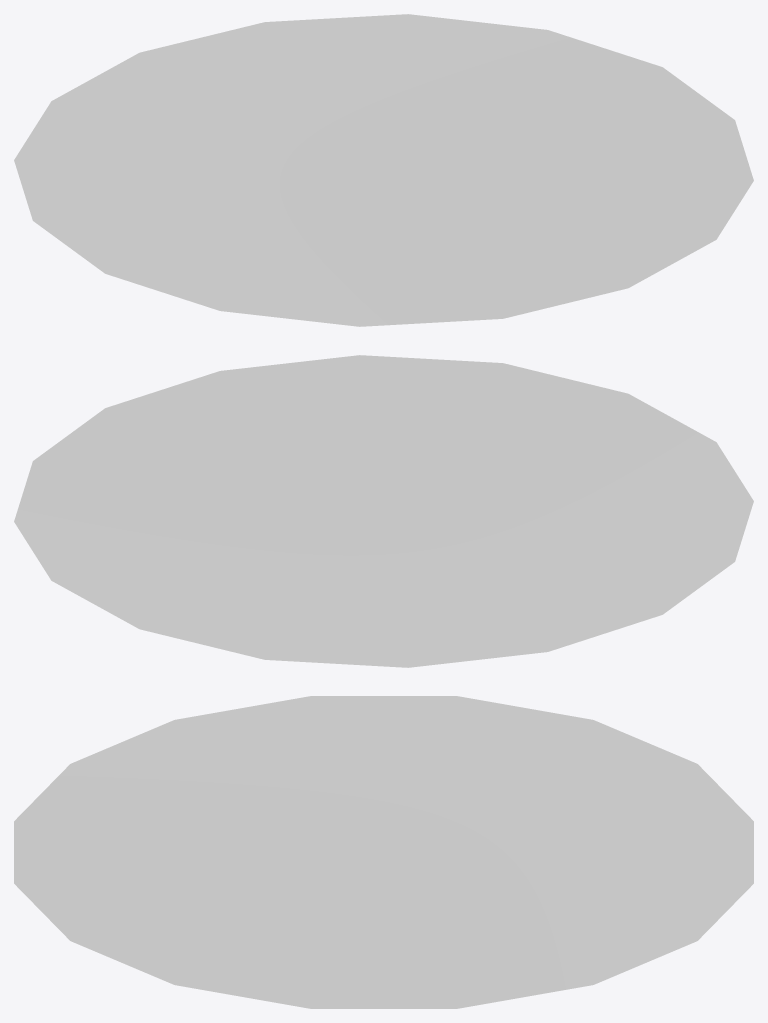
3 renders of one model, top to bottom at view 1: azimuth 30°, elevation 25°; view 2: azimuth 150°, elevation 25°; view 3: azimuth 270°, elevation 25°, orthographic.
Visible parts, largest first — view 1: SM_平面_001; view 2: SM_平面_001; view 3: SM_平面_001.
Part boxes in pixels (bbox=[...]): SM_平面_001: bbox=[14, 14, 753, 326]; SM_平面_001: bbox=[14, 355, 753, 667]; SM_平面_001: bbox=[14, 696, 753, 1008].
Bounding box in the file's own units: 86.5 × 2.9e-05 × 86.5.
